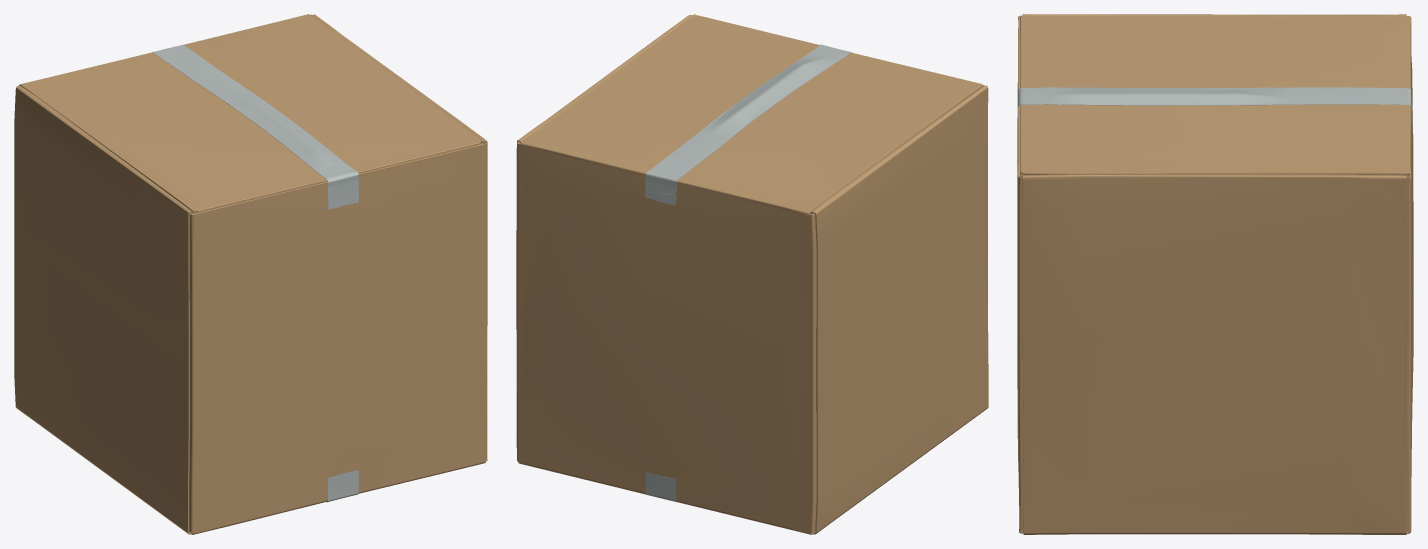
3 views of the same model, side by side, from view 1: azimuth 30°, elevation 25°; view 2: azimuth 150°, elevation 25°; view 3: azimuth 270°, elevation 25° (orthographic). The views are drawn at different scales.
Bounding box in the file's own units: 0.204 × 0.2105 × 0.2071.
